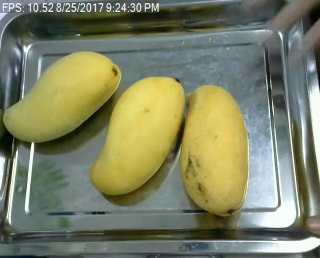Mango: (89, 72, 185, 196), (0, 50, 121, 143), (180, 85, 248, 217)
